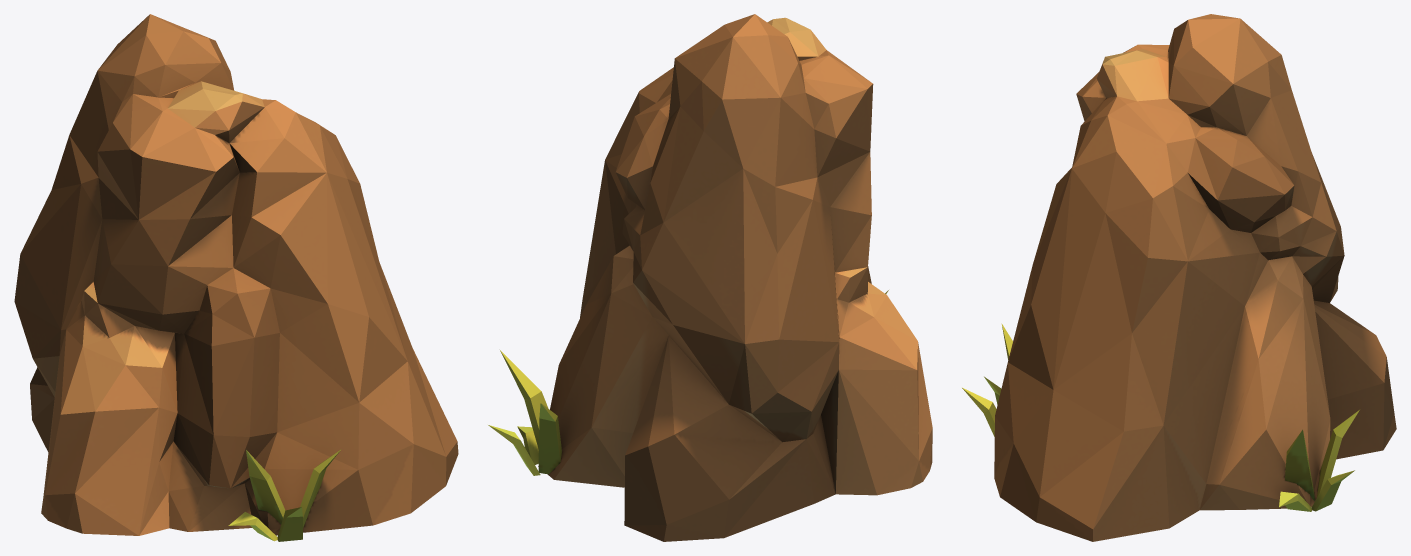
The model's file is PUSHILIN_rock.gltf.
3 views of the same model, side by side, from view 1: azimuth 30°, elevation 25°; view 2: azimuth 150°, elevation 25°; view 3: azimuth 270°, elevation 25° (orthographic). The views are drawn at different scales.
Visible parts, largest first — view 1: node-0; view 2: node-0; view 3: node-0.
Part boxes in pixels (<box>): node-0: <box>14,14,458,541</box>; node-0: <box>488,14,932,541</box>; node-0: <box>962,14,1396,541</box>.
Bounding box in the file's own units: 1.4 × 1.57 × 1.48.
1 material, 1 textured.
